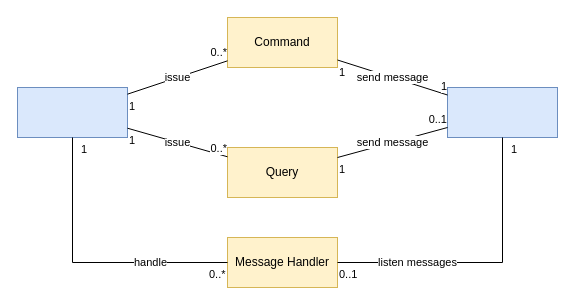
Image size: 575x305. Some labels were removed from this diagram. Each missing label, with the centre of its shape:
Machine: pixel 72 112
Message Queue: pixel 502 112
